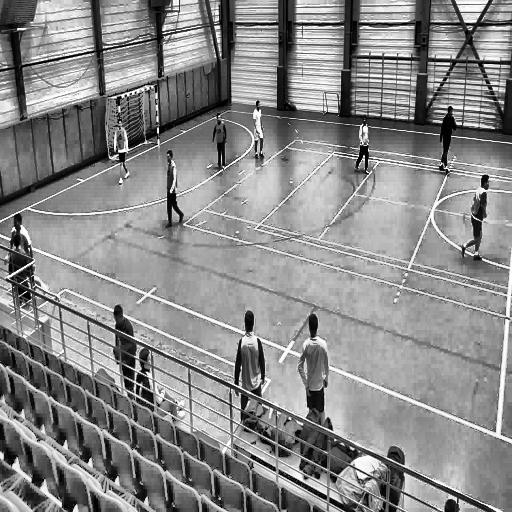player: (296, 306, 330, 424), (231, 305, 267, 404), (461, 170, 492, 271), (437, 102, 462, 178), (163, 147, 184, 231), (112, 117, 132, 188), (353, 113, 371, 179), (212, 112, 228, 172), (252, 96, 264, 162)
